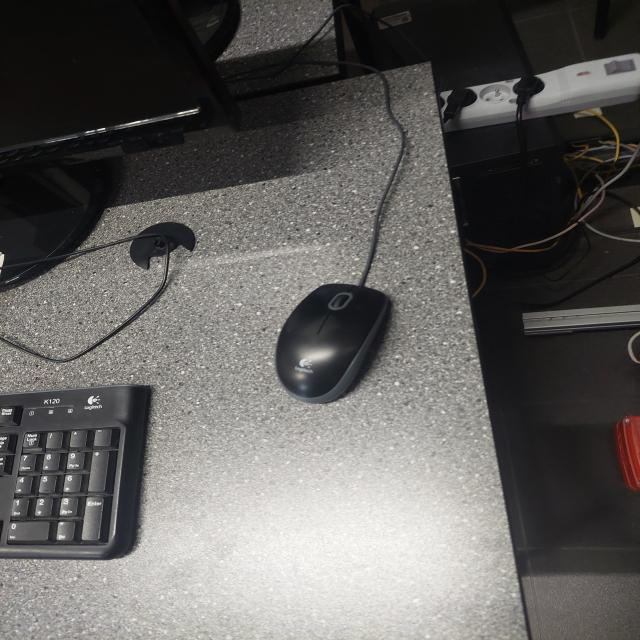mysz: (242, 275, 420, 413)
